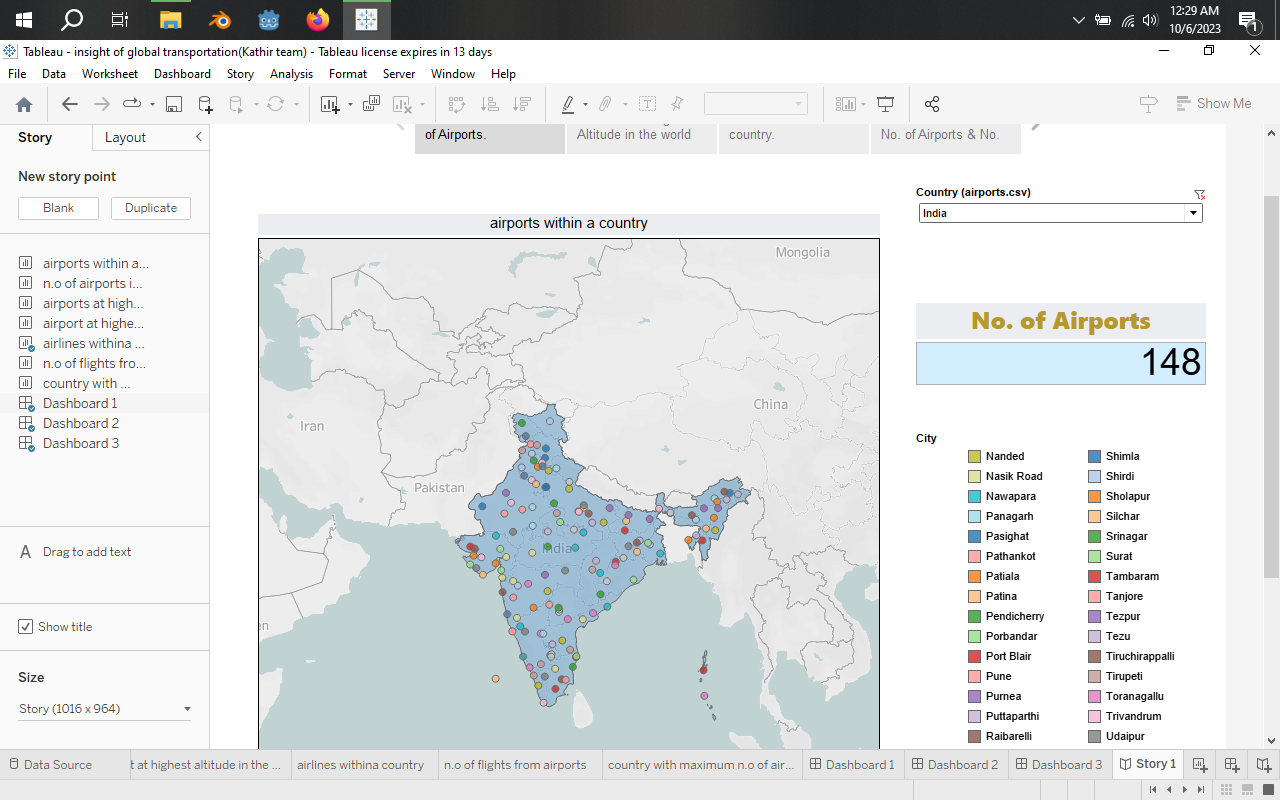

The dashboard page shown, as its layout file describes it:
{"tool":"tableau","page":{"name":"Dashboard 1","canvas":[1000,800],"ordinal":0},"visuals":[{"type":"filter","title":"airports within a country","param":"[federated.053kswo1am6z3912eajnk0m592e1].[none:Country (airports.csv):nk]","box":[694,8,298,117]},{"type":"worksheet","title":"airports within a country","mark":"Multipolygon","rows":["Latitude"],"cols":["Longitude","Longitude"],"box":[36,36,630,728]},{"type":"worksheet","title":"n.o of airports in a country","mark":"Automatic","box":[694,125,298,129]},{"type":"legend","title":"airports within a country","param":"[federated.053kswo1am6z3912eajnk0m592e1].[none:City:nk]","box":[694,254,298,538]}]}

Visuals, with their boxes on the page's 1000x800 design canvas (x1, y1, x2, y2). These are canvas units, not pixel positions in the 1280x800 screenshot, which may show the page scaled, cropped or inside an application window:
"airports within a country" filter: 694, 8, 992, 125
"airports within a country" worksheet (Multipolygon marks): 36, 36, 666, 764
"n.o of airports in a country" worksheet: 694, 125, 992, 254
"airports within a country" legend: 694, 254, 992, 792
